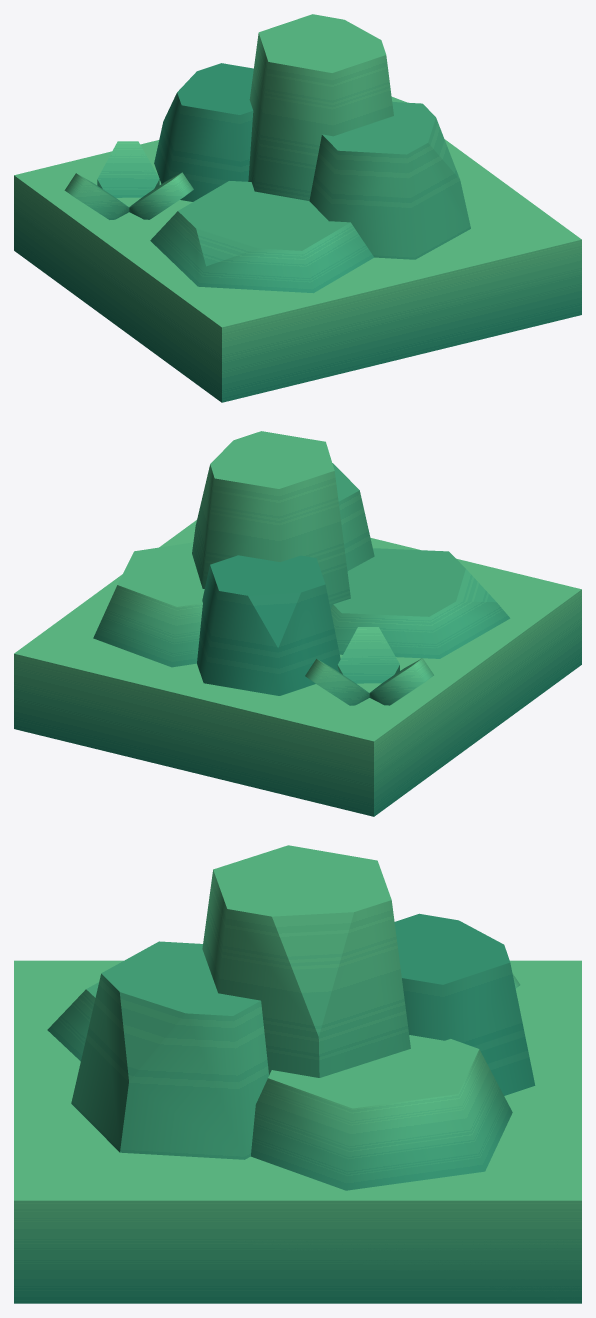
The model's file is tile-hill.glb.
3 views of the same model, one above another, from view 1: azimuth 30°, elevation 25°; view 2: azimuth 150°, elevation 25°; view 3: azimuth 270°, elevation 25° (orthographic). The views are drawn at different scales.
Parts seen in each view (by area): view 1: tile-hill; view 2: tile-hill; view 3: tile-hill.
Part boxes in pixels (<box>): tile-hill: <box>14,14,581,402</box>; tile-hill: <box>14,431,581,816</box>; tile-hill: <box>14,845,581,1303</box>.
Size of the model in its own units: 1 by 0.6146 by 1.
Materials: 1 (1 with a texture image).
